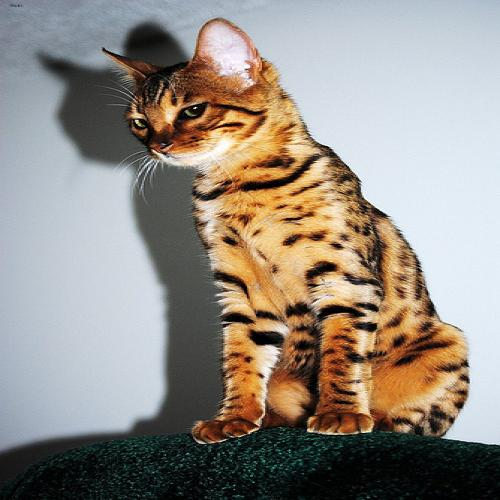cat-face: (95, 18, 283, 172)
